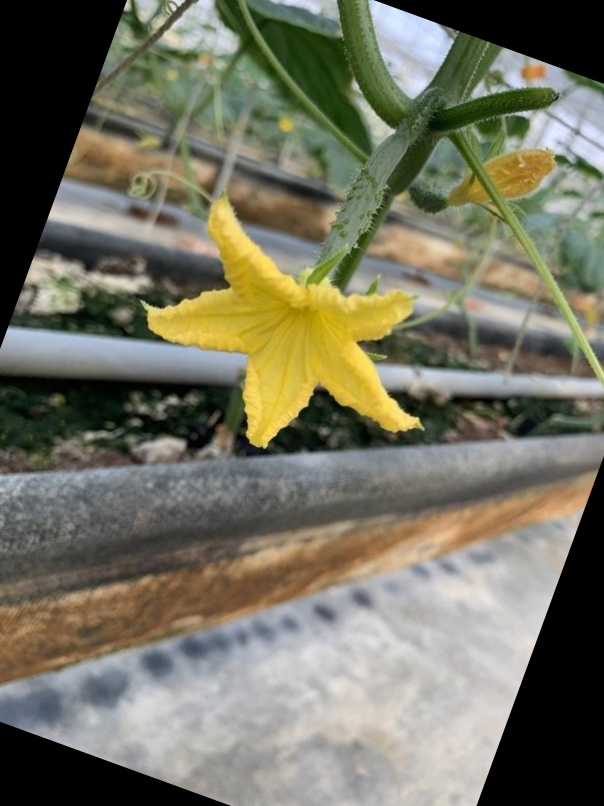flowering: (145, 111, 476, 452)
mature: (147, 114, 473, 450)
